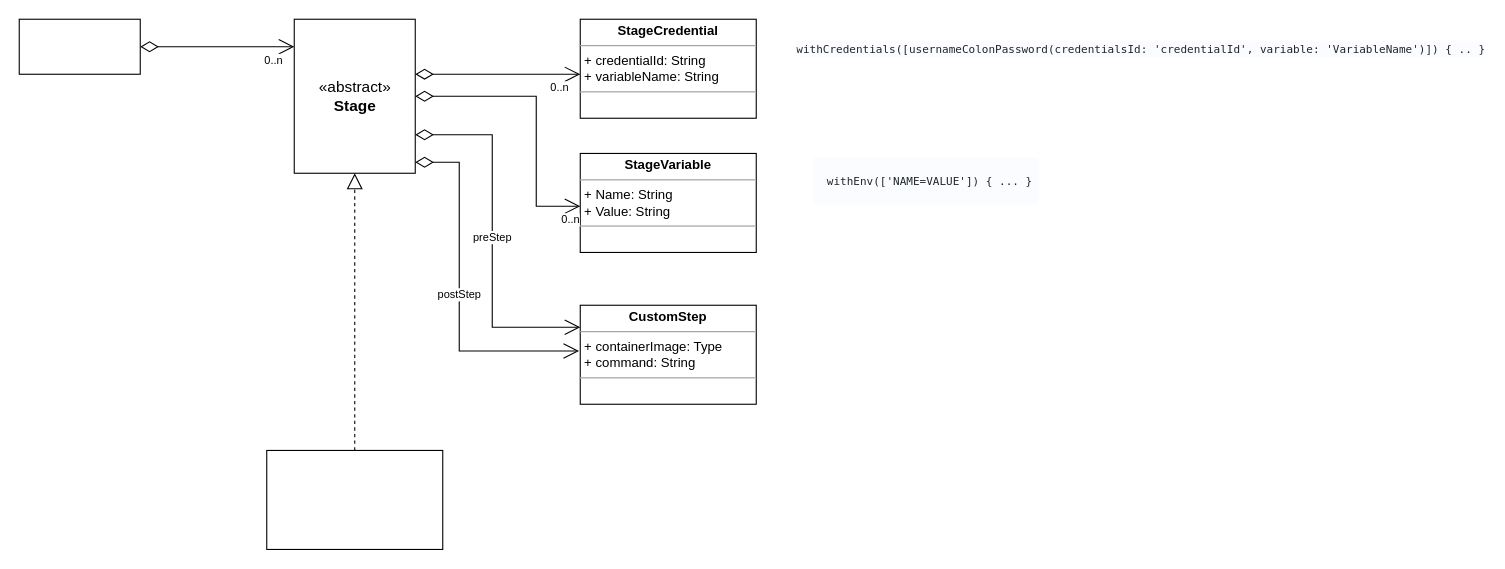
Image size: 1505x569. Some labels were removed from this diagram. Each missing label, with the centre of its shape:
"CfDeploy" belongs at point (354, 499).
"Job" belongs at point (79, 46).
